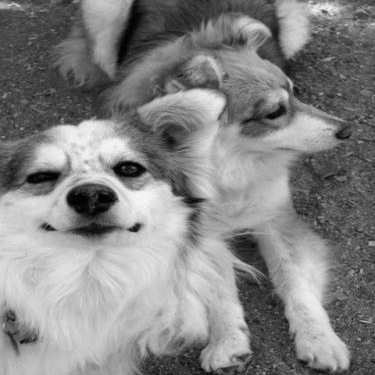dog: (116, 8, 359, 369), (1, 79, 228, 373)
